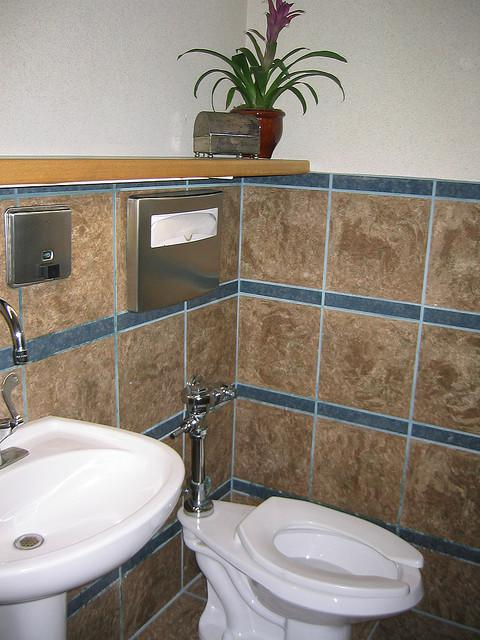Lavamanos: (0, 289, 184, 639)
Sanitario: (181, 367, 430, 639)
